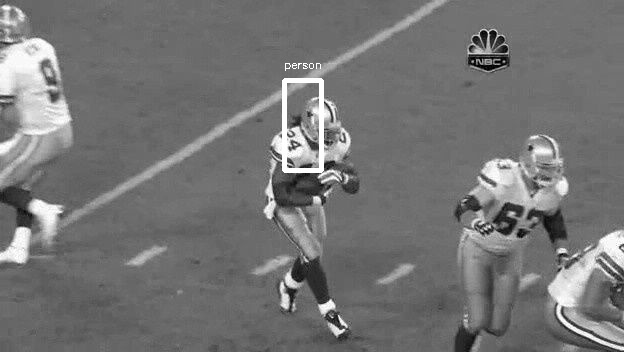person: (303, 96, 340, 144), (302, 96, 339, 144), (304, 96, 341, 144), (303, 95, 340, 143), (303, 97, 340, 145)
target_negative: (96, 126, 348, 309), (212, 224, 565, 291), (258, 157, 399, 297), (396, 155, 548, 209), (77, 256, 180, 265), (397, 261, 483, 271)
